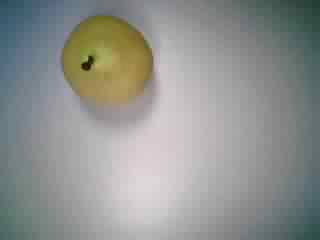pear: (41, 8, 160, 114)
